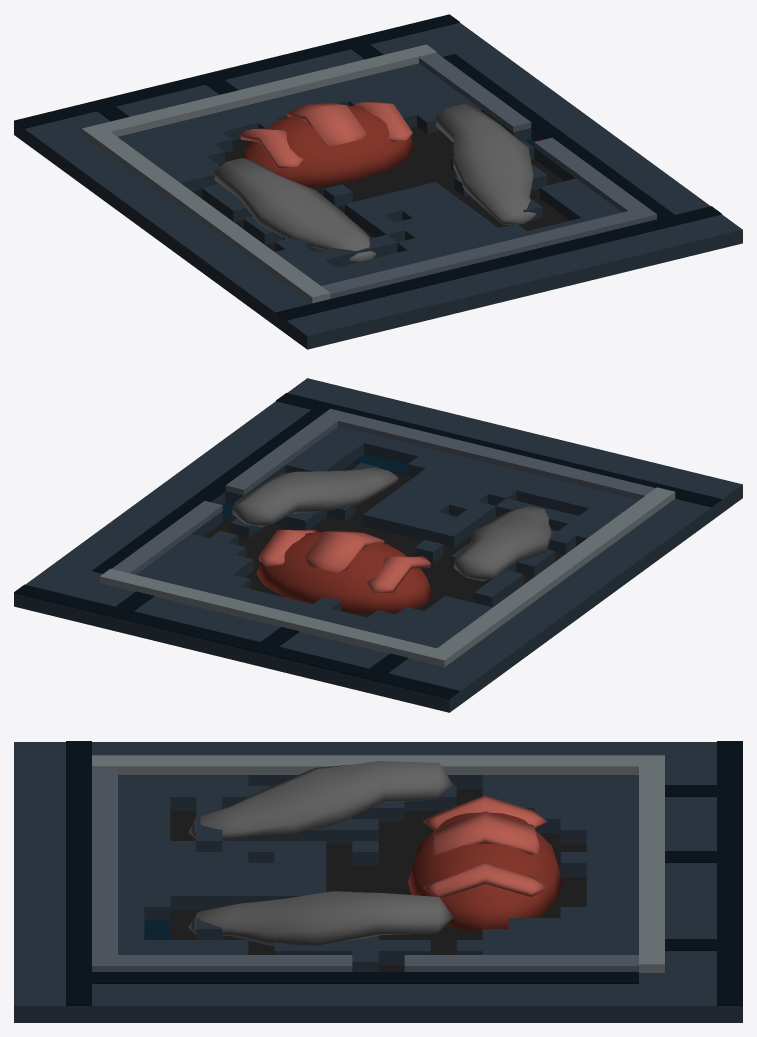
The model's file is newshc-1-f3.glb.
The picture shows the model from 3 angles, top to bottom: view 1: azimuth 30°, elevation 25°; view 2: azimuth 150°, elevation 25°; view 3: azimuth 270°, elevation 25°; orthographic projection. The views are drawn at different scales.
Parts seen in each view (by area): view 1: newshc-1-f3; view 2: newshc-1-f3; view 3: newshc-1-f3.
Boxes of the visible parts, box(x1,y1,x2,y2) form: newshc-1-f3: box(14, 14, 742, 349); newshc-1-f3: box(14, 378, 742, 712); newshc-1-f3: box(14, 741, 742, 1022).
Size of the model in its own units: 2 by 0.23 by 2.33.
